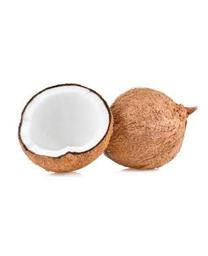coconut: (17, 82, 115, 173), (105, 87, 186, 170)
